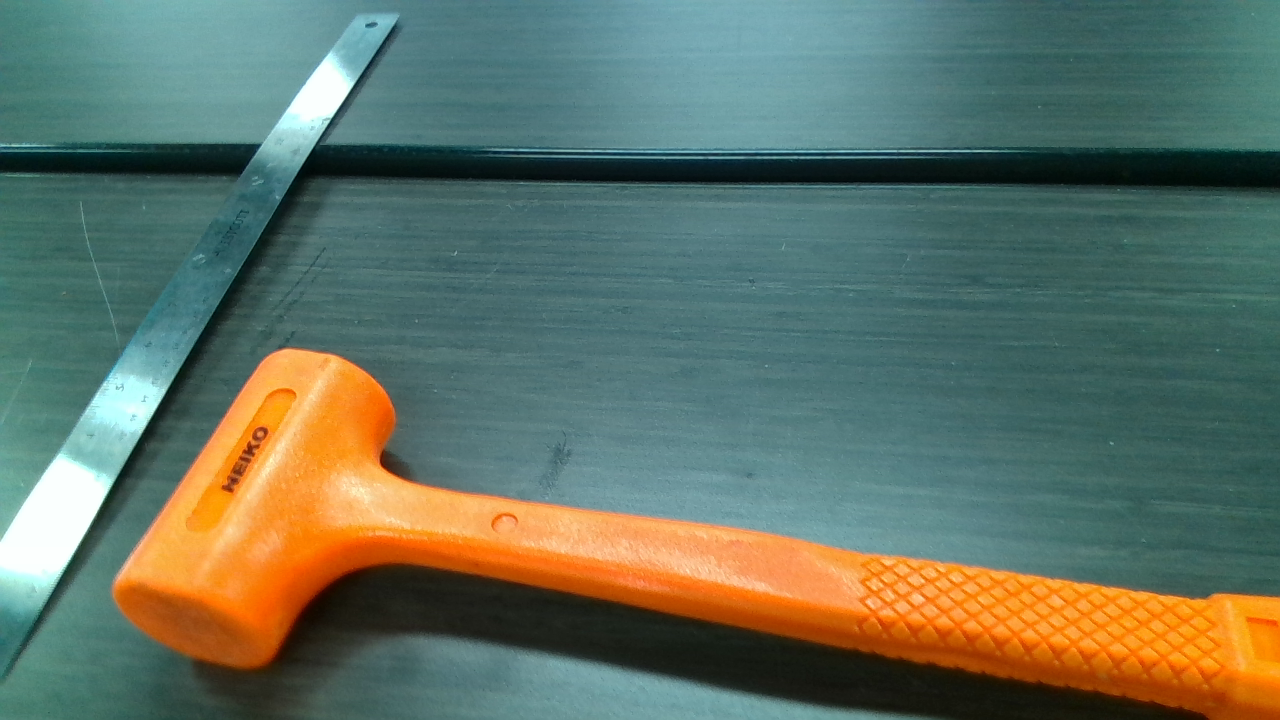Orange Hammer: (122, 352, 1275, 719)
